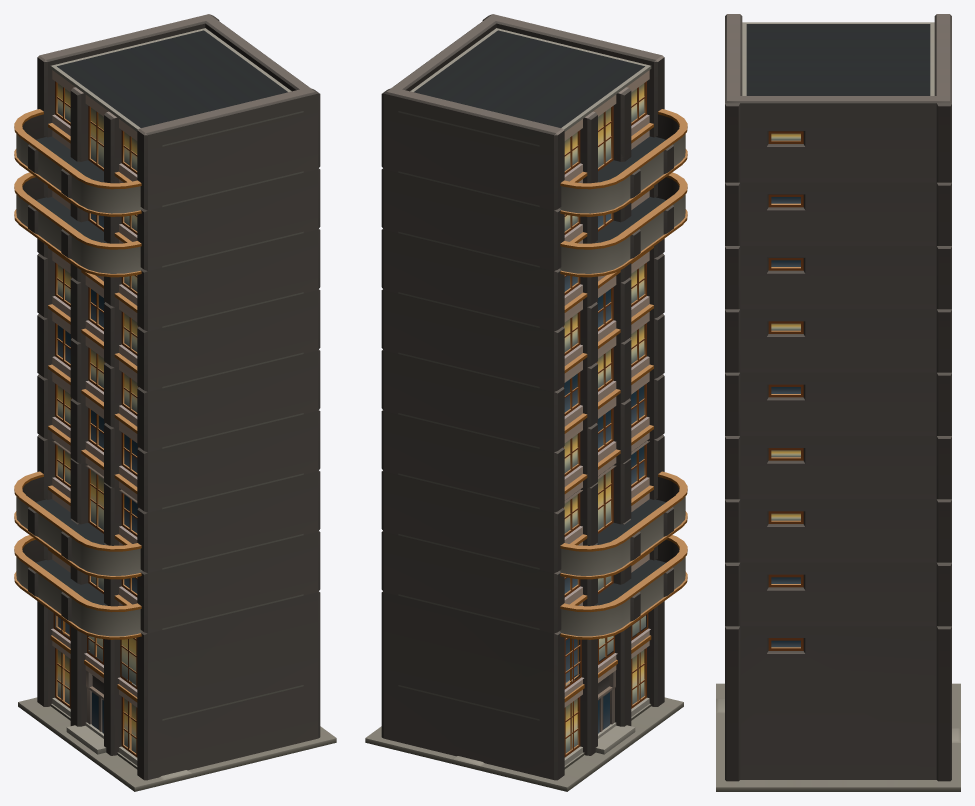
File: Building_22A.fbx
3 renders of one model, left to right at view 1: azimuth 30°, elevation 25°; view 2: azimuth 150°, elevation 25°; view 3: azimuth 270°, elevation 25°, orthographic. The views are drawn at different scales.
Parts seen in each view (by area): view 1: Building_22A, Window_Lights_22A; view 2: Building_22A, Window_Lights_22A; view 3: Building_22A, Window_Lights_22A.
Part boxes in pixels (box(x1,y1,x2,y2)): Building_22A: box(14, 14, 336, 791); Window_Lights_22A: box(57, 83, 137, 753); Building_22A: box(365, 14, 687, 791); Window_Lights_22A: box(564, 83, 645, 753); Building_22A: box(716, 14, 960, 791); Window_Lights_22A: box(771, 133, 800, 520).
Bounding box in the file's own units: 1598 × 4310 × 1400.
